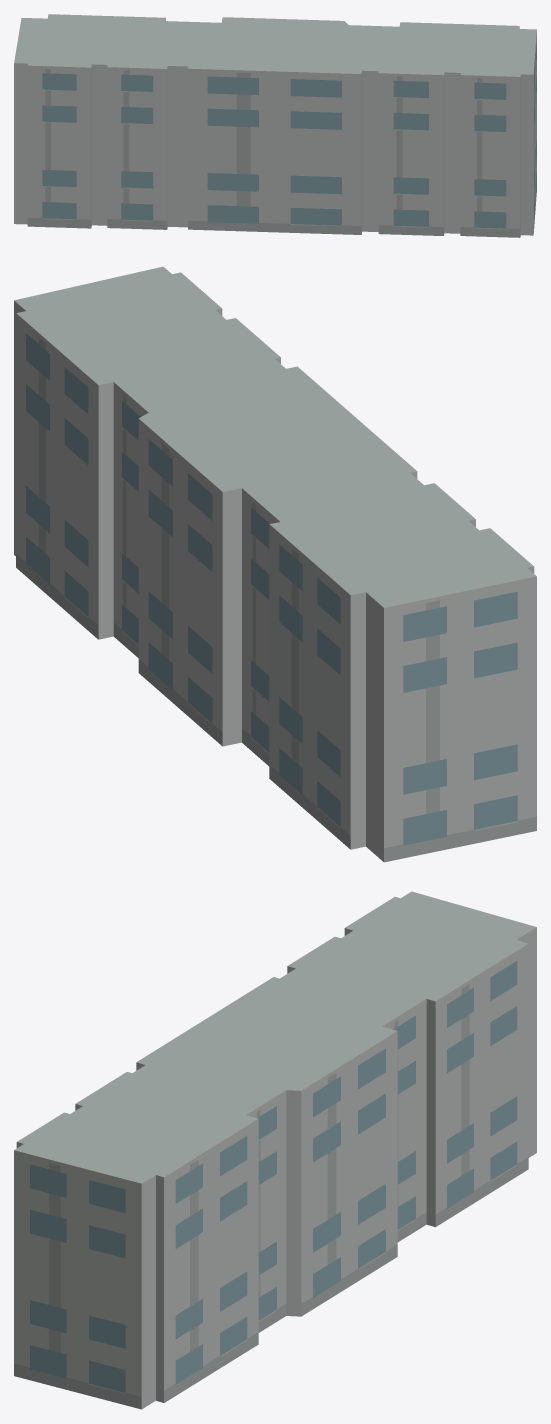
The model's file is survey-upis-33019054.glb.
3 views of the same model, one above another, from view 1: azimuth 30°, elevation 25°; view 2: azimuth 150°, elevation 25°; view 3: azimuth 270°, elevation 25° (orthographic). The views are drawn at different scales.
Visible parts, largest first — view 1: survey-upis-33019054.tmp; view 2: survey-upis-33019054.tmp; view 3: survey-upis-33019054.tmp.
Boxes of the visible parts, left/top/right/bottom form: survey-upis-33019054.tmp: left=14, top=14, right=536, bottom=237; survey-upis-33019054.tmp: left=14, top=266, right=536, bottom=862; survey-upis-33019054.tmp: left=14, top=891, right=536, bottom=1409.
Size of the model in its own units: 42.33 by 15.25 by 32.01.
